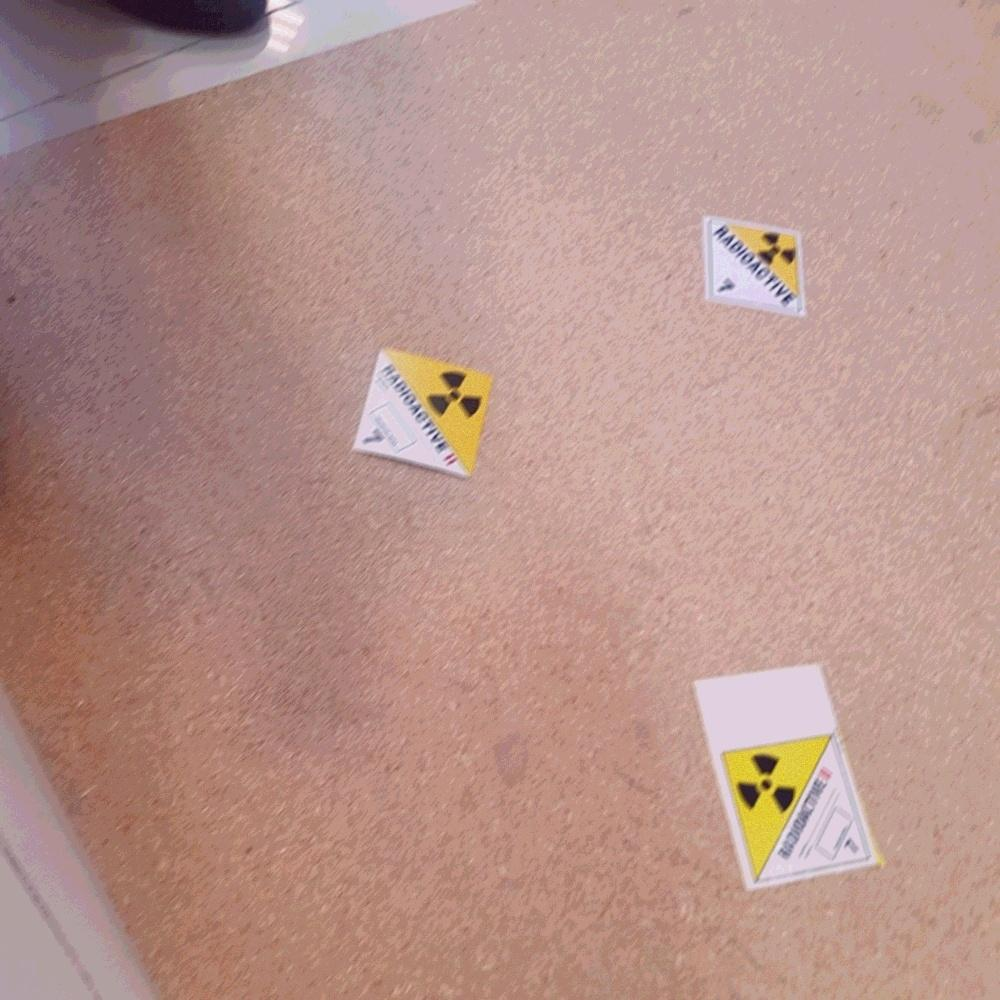radioactive: (719, 735, 887, 882), (350, 349, 497, 476), (703, 217, 807, 317)
